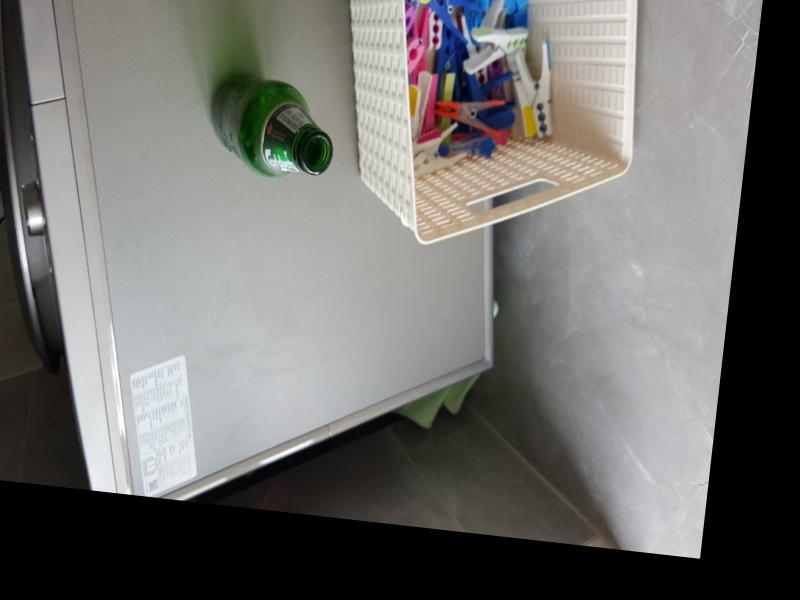Beer: (203, 71, 338, 177)
